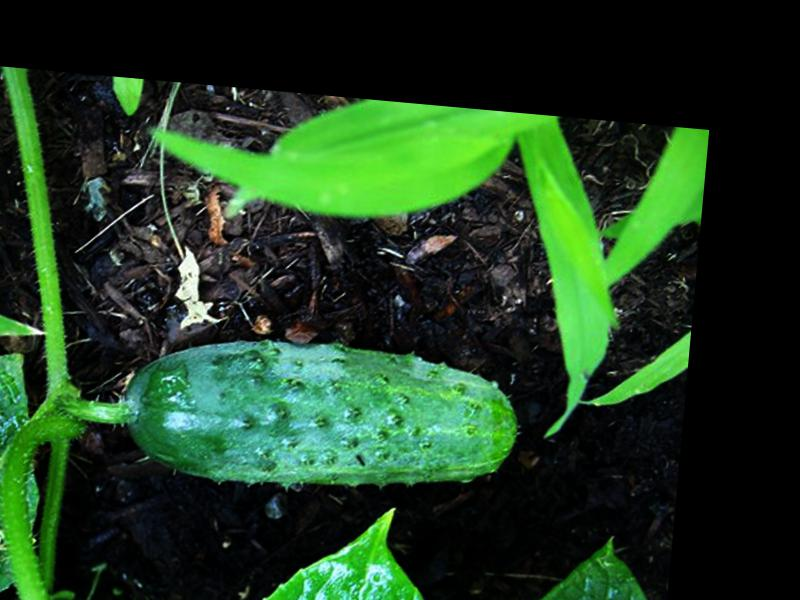Cucumber: (118, 324, 528, 507)
